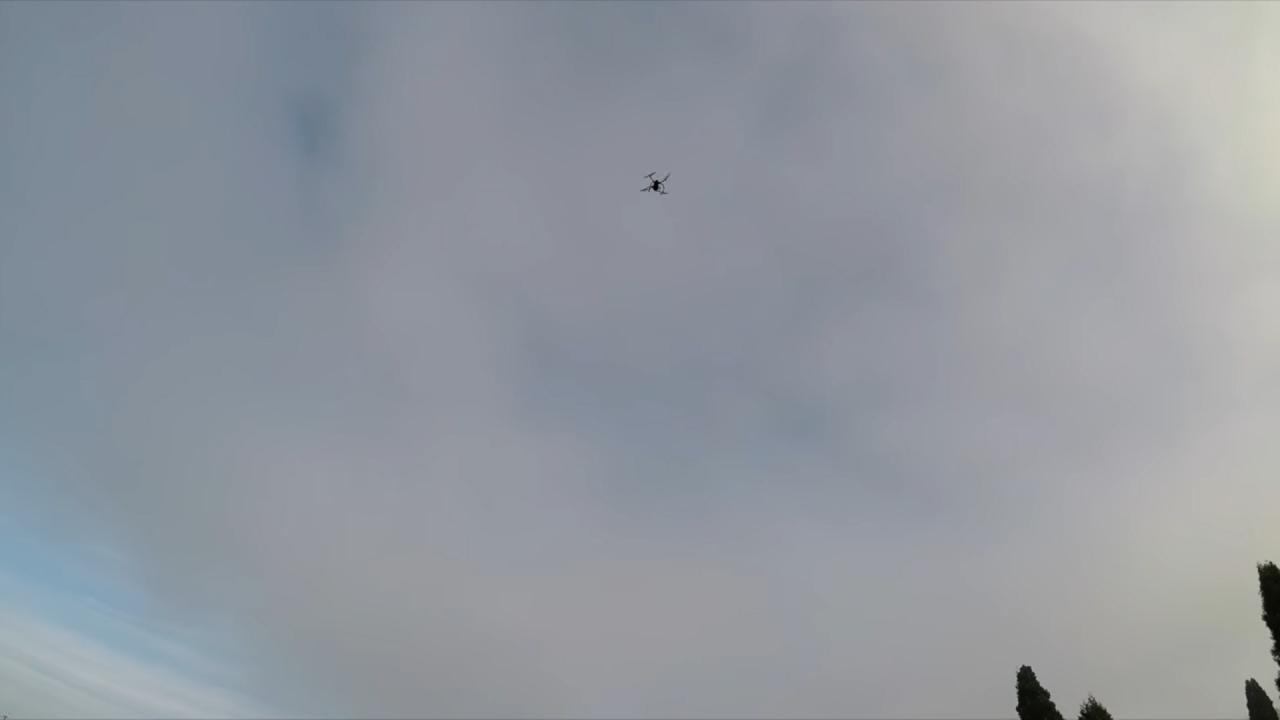Drone: (632, 160, 678, 207)
